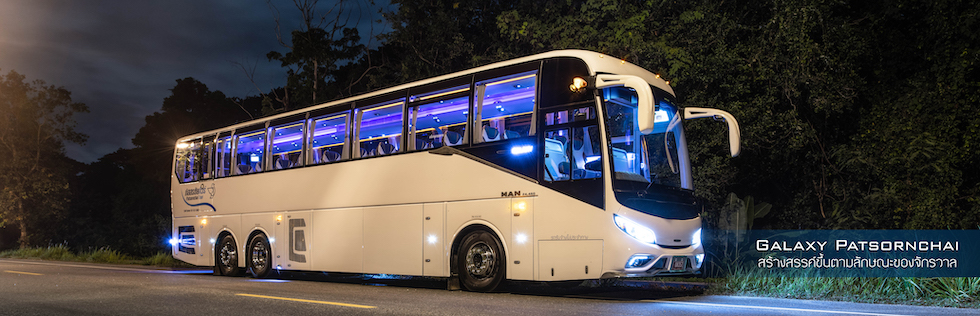bus: (167, 50, 710, 290)
